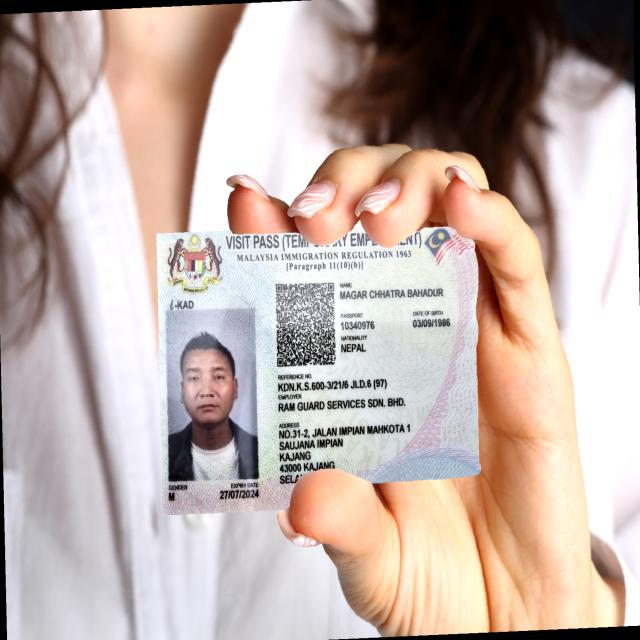ikad-temp: (155, 224, 481, 515)
